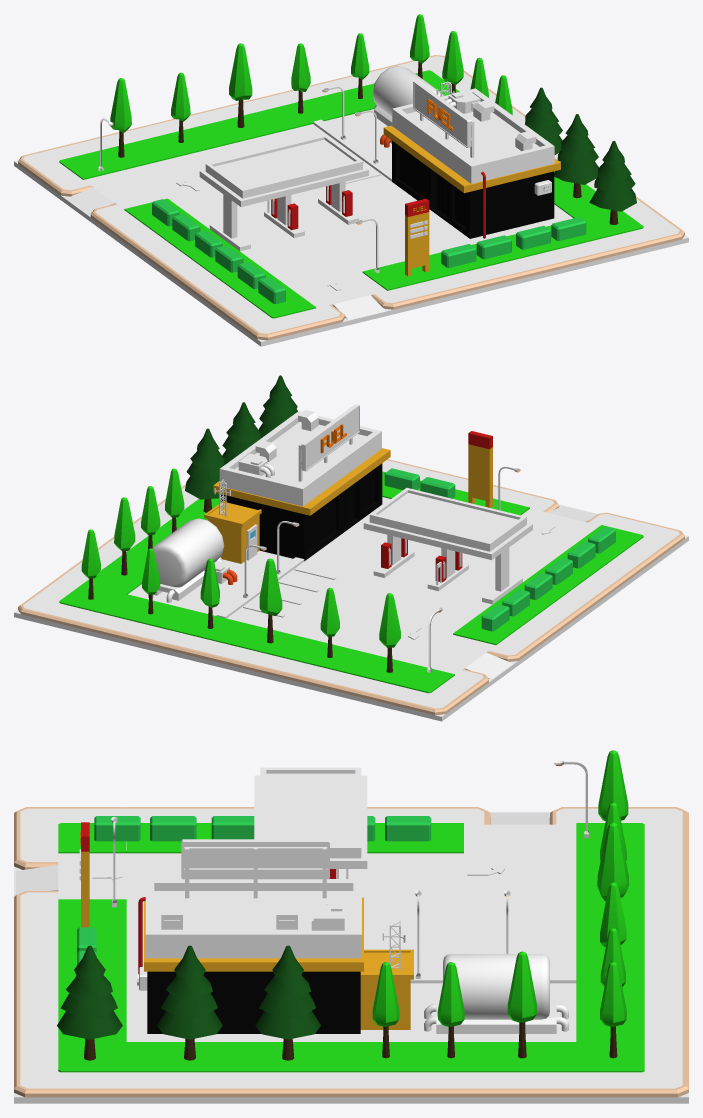
File: GasPump_01.FBX
3 renders of one model, top to bottom at view 1: azimuth 30°, elevation 25°; view 2: azimuth 150°, elevation 25°; view 3: azimuth 270°, elevation 25°, orthographic. The views are drawn at different scales.
Parts seen in each view (by area): view 1: GasPump_01; view 2: GasPump_01; view 3: GasPump_01.
Part boxes in pixels (x1=…): GasPump_01: x1=14, y1=14, x2=688, y2=346; GasPump_01: x1=14, y1=375, x2=688, y2=721; GasPump_01: x1=14, y1=750, x2=688, y2=1103.
Size of the model in its own units: 60 by 15.46 by 60.
